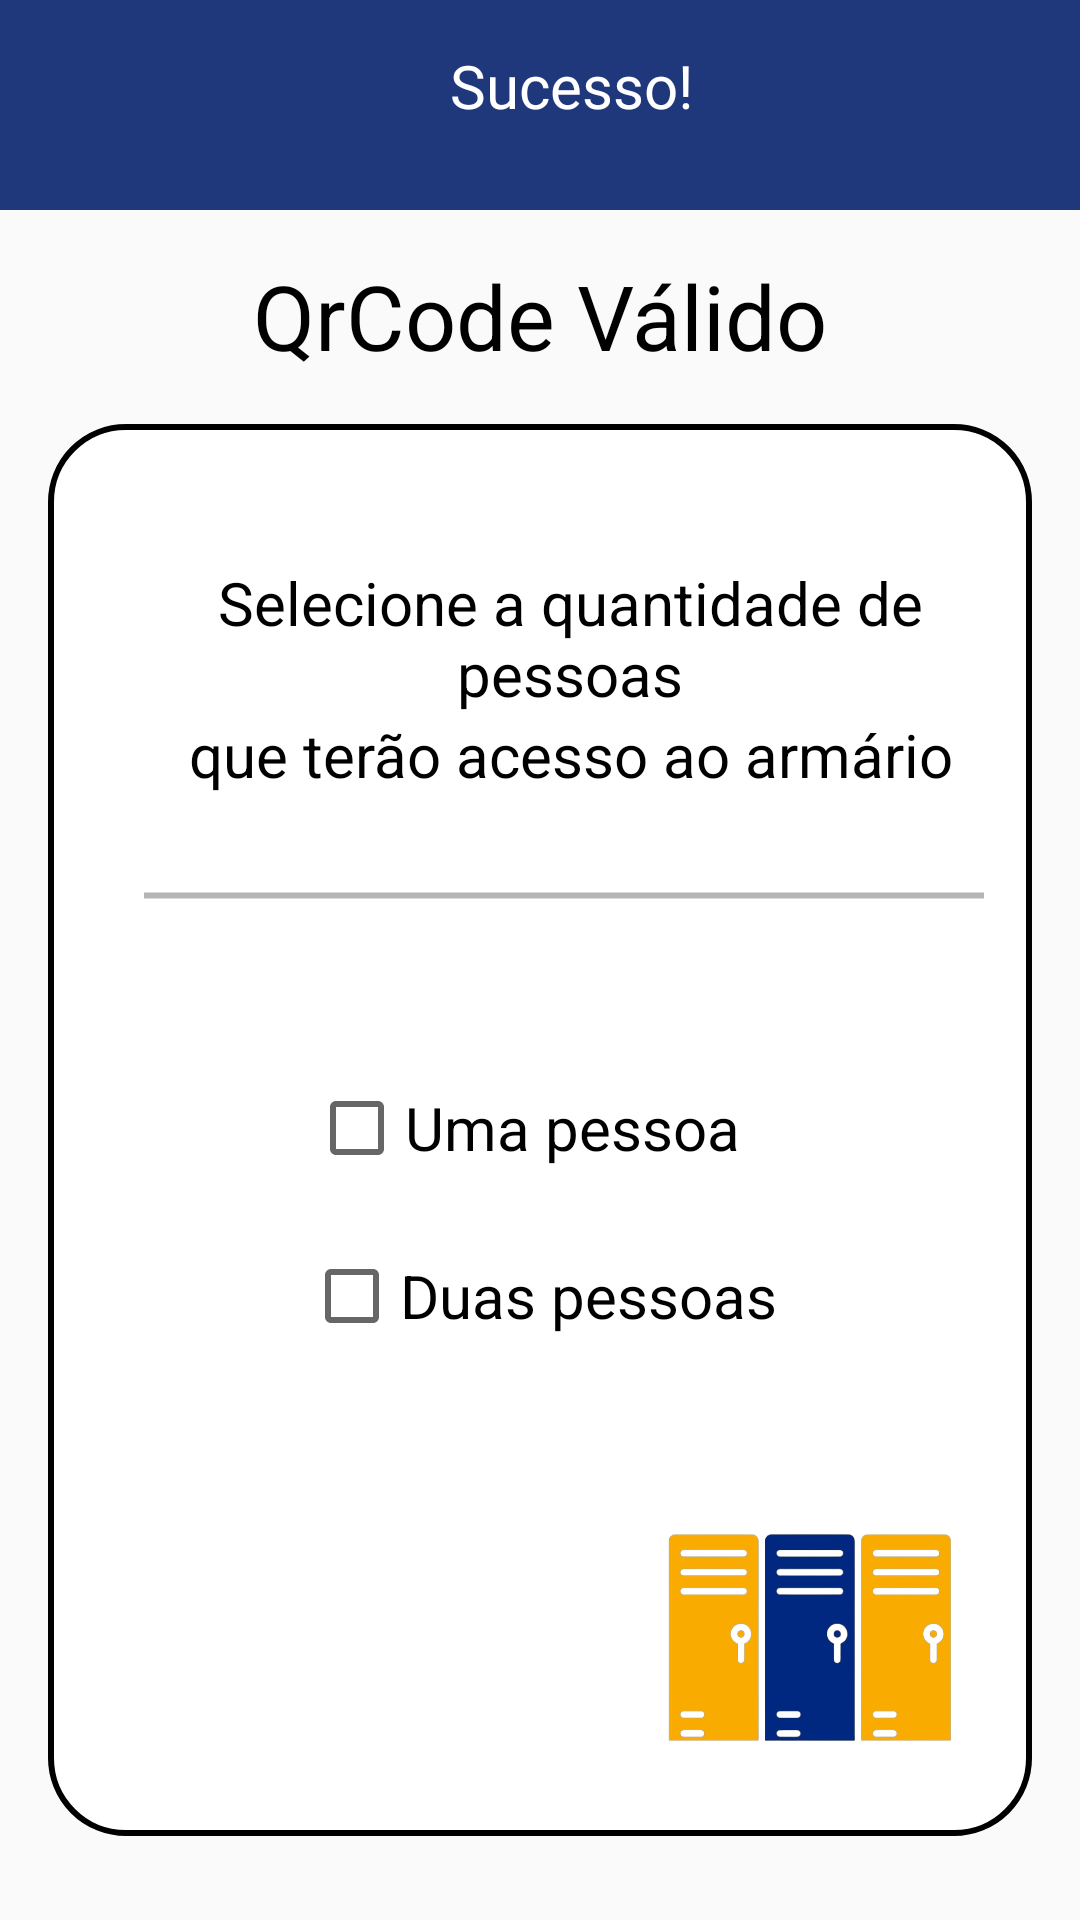

Where icons sit on this 1080px x 1920px app screen, as region(x1, y1, x2, y2):
armario: region(669, 1534, 951, 1741)
